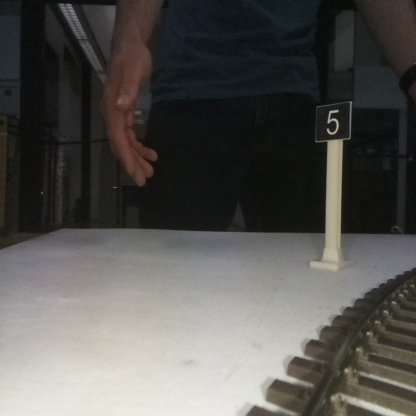black-info-5: (316, 103, 349, 266)
